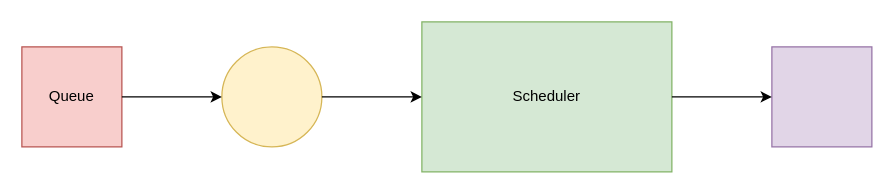
This 894x194 diagram has some shape labels left out. Here are the shapes that lost their labels. From the top down, the centre of each, then its label:
At point 271,96: "CG".
At point 821,96: "Target device".
